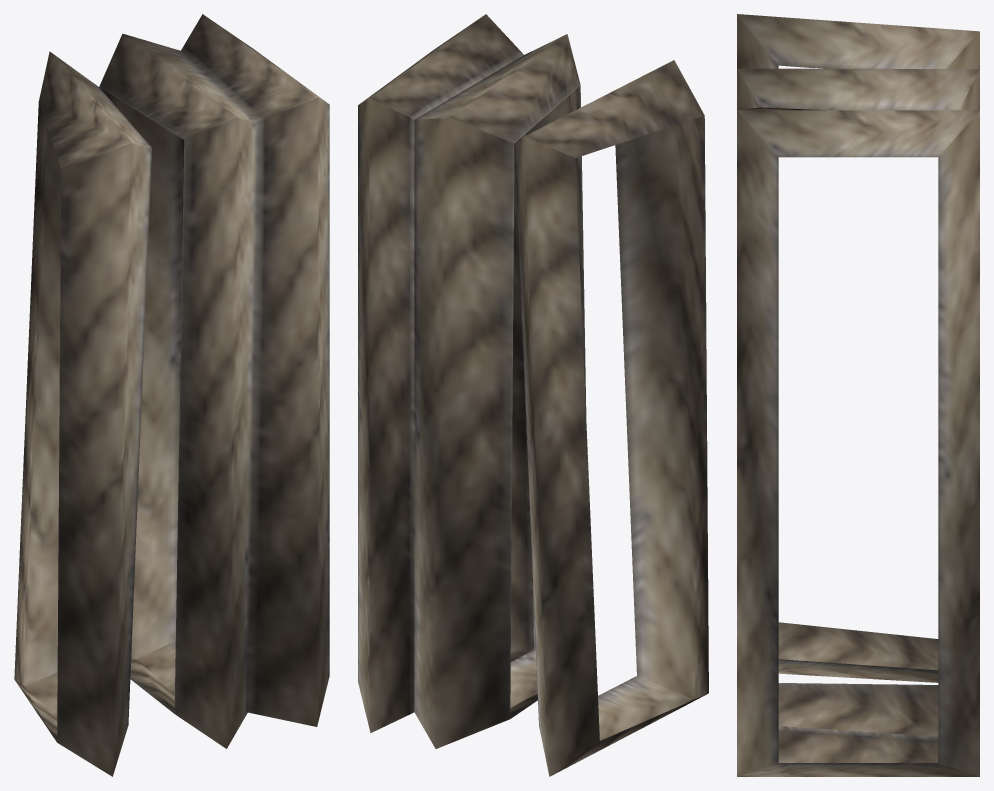
The model's file is Pillar_Beam_Rope.fbx.
3 views of the same model, side by side, from view 1: azimuth 30°, elevation 25°; view 2: azimuth 150°, elevation 25°; view 3: azimuth 270°, elevation 25° (orthographic). The views are drawn at different scales.
Visible parts, largest first — view 1: Pillar_Beam_Rope; view 2: Pillar_Beam_Rope; view 3: Pillar_Beam_Rope.
Part boxes in pixels (<box>): Pillar_Beam_Rope: <box>14,14,329,776</box>; Pillar_Beam_Rope: <box>358,14,708,776</box>; Pillar_Beam_Rope: <box>737,14,979,776</box>.
Bounding box in the file's own units: 0.3373 × 0.7444 × 0.2457.
